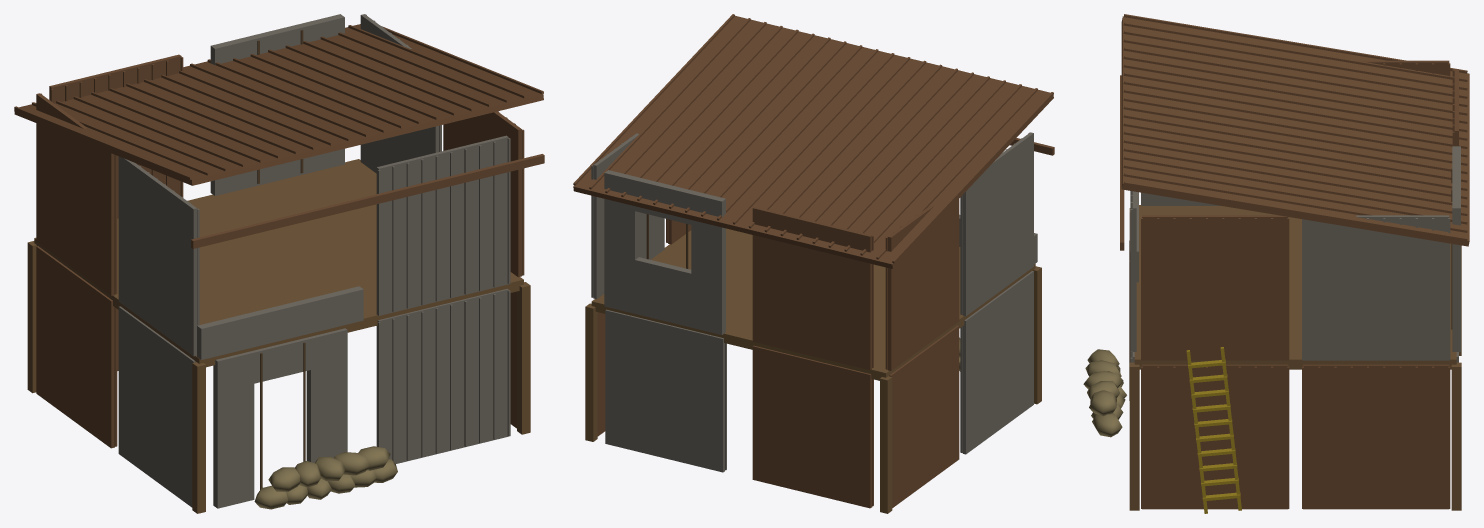
The model's file is bldg_tin.glb.
3 renders of one model, left to right at view 1: azimuth 30°, elevation 25°; view 2: azimuth 150°, elevation 25°; view 3: azimuth 270°, elevation 25°, orthographic. The views are drawn at different scales.
Parts seen in each view (by area): view 1: WallPanel_Tin (×10), RoofDeck, Deck, RoofPanel_Sloped, WallPanel_Finished (×2), Bldg_Tin, CornerPost (×3), SandbagBasePanel; view 2: WallPanel_Tin (×9), RoofDeck, RoofPanel_Sloped, WallPanel_Finished, Deck, CornerPost (×3); view 3: WallPanel_Tin (×8), RoofDeck, RoofPanel_Sloped, Deck, Ladder, CornerPost (×2), SandbagBasePanel, WallPanel_Finished.
Part boxes in pixels (x1=…): WallPanel_Tin (×10): x1=36, y1=14, x2=524, y2=507; RoofDeck: x1=14, y1=24, x2=543, y2=185; Deck: x1=34, y1=159, x2=523, y2=367; RoofPanel_Sloped: x1=14, y1=25, x2=544, y2=248; WallPanel_Finished (×2): x1=210, y1=14, x2=347, y2=508; Bldg_Tin: x1=197, y1=286, x2=363, y2=359; CornerPost (×3): x1=27, y1=241, x2=530, y2=513; SandbagBasePanel: x1=254, y1=446, x2=397, y2=509; WallPanel_Tin (×9): x1=591, y1=132, x2=1033, y2=508; RoofDeck: x1=573, y1=15, x2=1053, y2=268; RoofPanel_Sloped: x1=573, y1=14, x2=1054, y2=263; WallPanel_Finished: x1=604, y1=170, x2=725, y2=334; Deck: x1=591, y1=228, x2=1035, y2=380; CornerPost (×3): x1=585, y1=266, x2=1041, y2=513; WallPanel_Tin (×8): x1=1130, y1=60, x2=1458, y2=509; RoofDeck: x1=1121, y1=16, x2=1469, y2=246; RoofPanel_Sloped: x1=1120, y1=14, x2=1467, y2=250; Deck: x1=1134, y1=205, x2=1456, y2=369; Ladder: x1=1186, y1=347, x2=1241, y2=513; CornerPost (×2): x1=1129, y1=362, x2=1461, y2=510; SandbagBasePanel: x1=1083, y1=349, x2=1126, y2=437; WallPanel_Finished: x1=1451, y1=146, x2=1460, y2=351.
Bounding box in the file's own units: 6.54 × 6.05 × 6.33.
